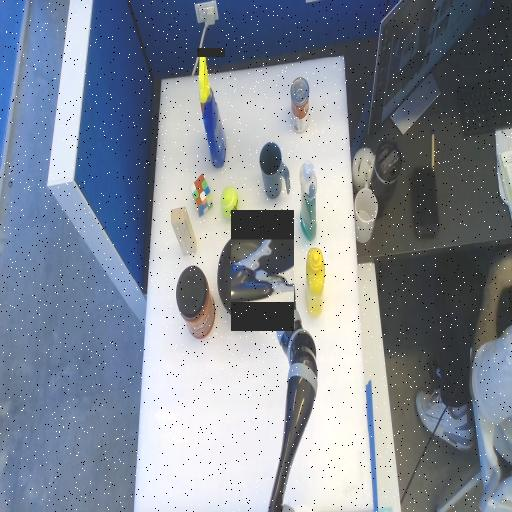bowl: (218, 233, 268, 318)
cleanser: (299, 193, 316, 209)
coffee_can: (176, 267, 214, 338)
jaco: (231, 239, 294, 302)
meat_can: (268, 245, 289, 298)
mug: (259, 143, 289, 199)
mustard_bottle: (306, 249, 324, 317)
rubik: (190, 185, 212, 207)
soup_can: (290, 97, 308, 115)
tennis_ball: (221, 195, 238, 212)
windex: (197, 99, 225, 121)
wooden_block: (171, 208, 195, 254)
workspace: (135, 57, 372, 509)
